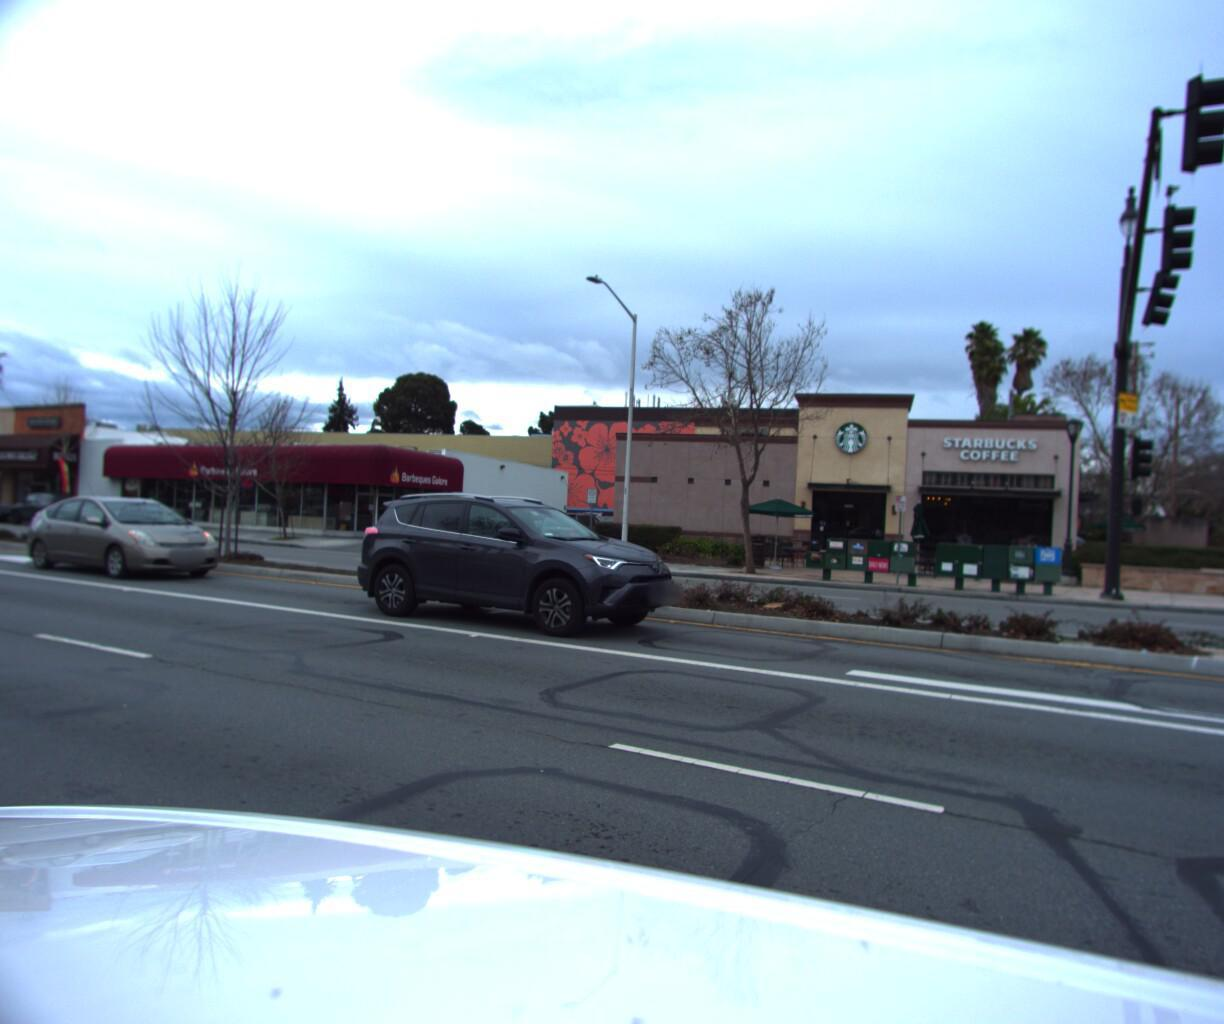car: (343, 488, 715, 652), (8, 493, 245, 586), (534, 507, 611, 559), (8, 494, 93, 531)
other_vehicle: (412, 489, 491, 544)
